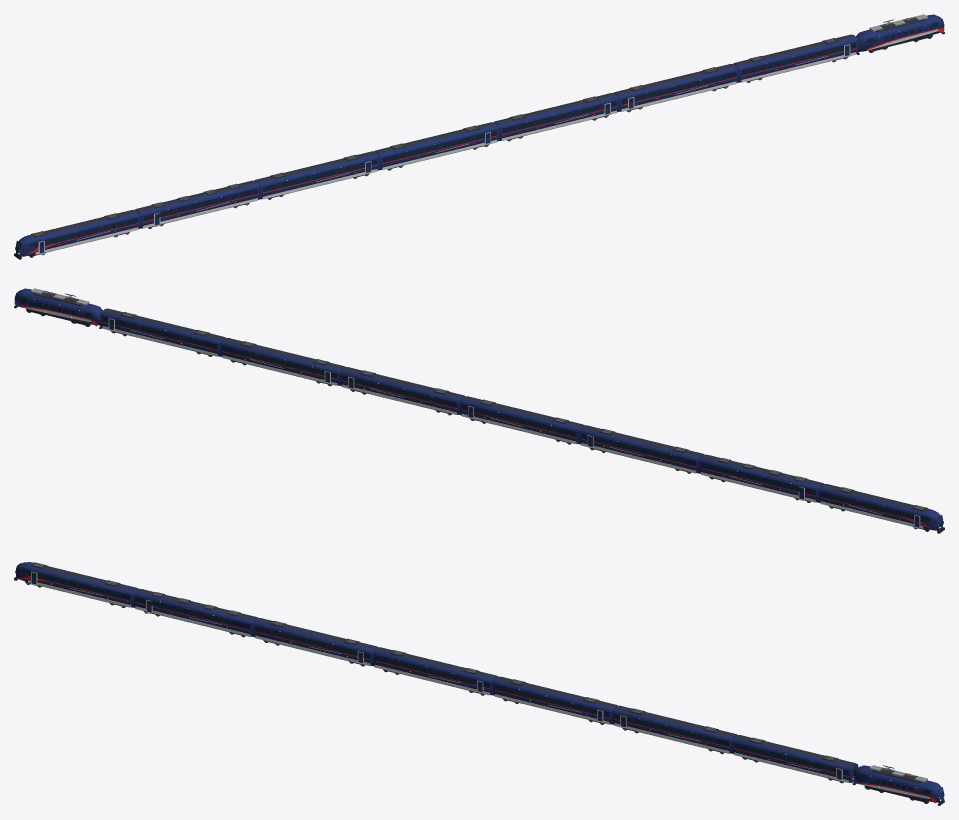
The model's file is nightjet-new-generation-blender.glb.
The picture shows the model from 3 angles, top to bottom: view 1: azimuth 30°, elevation 25°; view 2: azimuth 150°, elevation 25°; view 3: azimuth 330°, elevation 25°; orthographic projection.
Visible parts, largest first — view 1: nightjet_control_lofted_body.001, nightjet_sleeping_a_lofted_body.001, nightjet_couchette_lofted_body.002, nightjet_couchette_lofted_body.003, nightjet_sleeping_b_lofted_body.001, nightjet_couchette_lofted_body.001, nightjet_taurus_lofted_body.001, nightjet_multifunction_lofted_body.001, multifunction_window_backdrop_-1.001; view 2: nightjet_control_lofted_body.001, nightjet_sleeping_a_lofted_body.001, nightjet_couchette_lofted_body.002, nightjet_couchette_lofted_body.003, nightjet_sleeping_b_lofted_body.001, nightjet_couchette_lofted_body.001, nightjet_multifunction_lofted_body.001, nightjet_taurus_lofted_body.001, multifunction_window_backdrop_1.001; view 3: nightjet_taurus_lofted_body.001, nightjet_sleeping_a_lofted_body.001, nightjet_couchette_lofted_body.001, nightjet_control_lofted_body.001, nightjet_couchette_lofted_body.003, nightjet_couchette_lofted_body.002, nightjet_sleeping_b_lofted_body.001, nightjet_multifunction_lofted_body.001, multifunction_window_backdrop_-1.001.
Boxes of the visible parts, x1,y1,x2,y2 form: nightjet_control_lofted_body.001: (16, 210, 140, 256); nightjet_sleeping_a_lofted_body.001: (733, 34, 858, 82); nightjet_couchette_lofted_body.002: (374, 122, 499, 170); nightjet_couchette_lofted_body.003: (254, 151, 379, 199); nightjet_sleeping_b_lofted_body.001: (613, 64, 738, 111); nightjet_couchette_lofted_body.001: (494, 93, 618, 140); nightjet_taurus_lofted_body.001: (856, 14, 944, 51); nightjet_multifunction_lofted_body.001: (134, 180, 259, 228); multifunction_window_backdrop_-1.001: (143, 188, 257, 221); nightjet_control_lofted_body.001: (818, 484, 942, 530); nightjet_sleeping_a_lofted_body.001: (100, 308, 225, 356); nightjet_couchette_lofted_body.002: (459, 396, 584, 444); nightjet_couchette_lofted_body.003: (579, 425, 704, 473); nightjet_sleeping_b_lofted_body.001: (220, 338, 345, 385); nightjet_couchette_lofted_body.001: (340, 367, 464, 414); nightjet_multifunction_lofted_body.001: (699, 454, 824, 502); nightjet_taurus_lofted_body.001: (14, 288, 102, 325); multifunction_window_backdrop_1.001: (701, 462, 815, 495); nightjet_taurus_lofted_body.001: (853, 765, 944, 802); nightjet_sleeping_a_lofted_body.001: (732, 735, 858, 782); nightjet_couchette_lofted_body.001: (492, 676, 617, 724); nightjet_control_lofted_body.001: (16, 562, 138, 607); nightjet_couchette_lofted_body.003: (253, 618, 378, 665); nightjet_couchette_lofted_body.002: (373, 647, 497, 695); nightjet_sleeping_b_lofted_body.001: (612, 705, 737, 753); nightjet_multifunction_lofted_body.001: (133, 589, 258, 636); multifunction_window_backdrop_-1.001: (135, 596, 250, 629).
Bounding box in the file's own units: 205 × 5.54 × 3.45.
